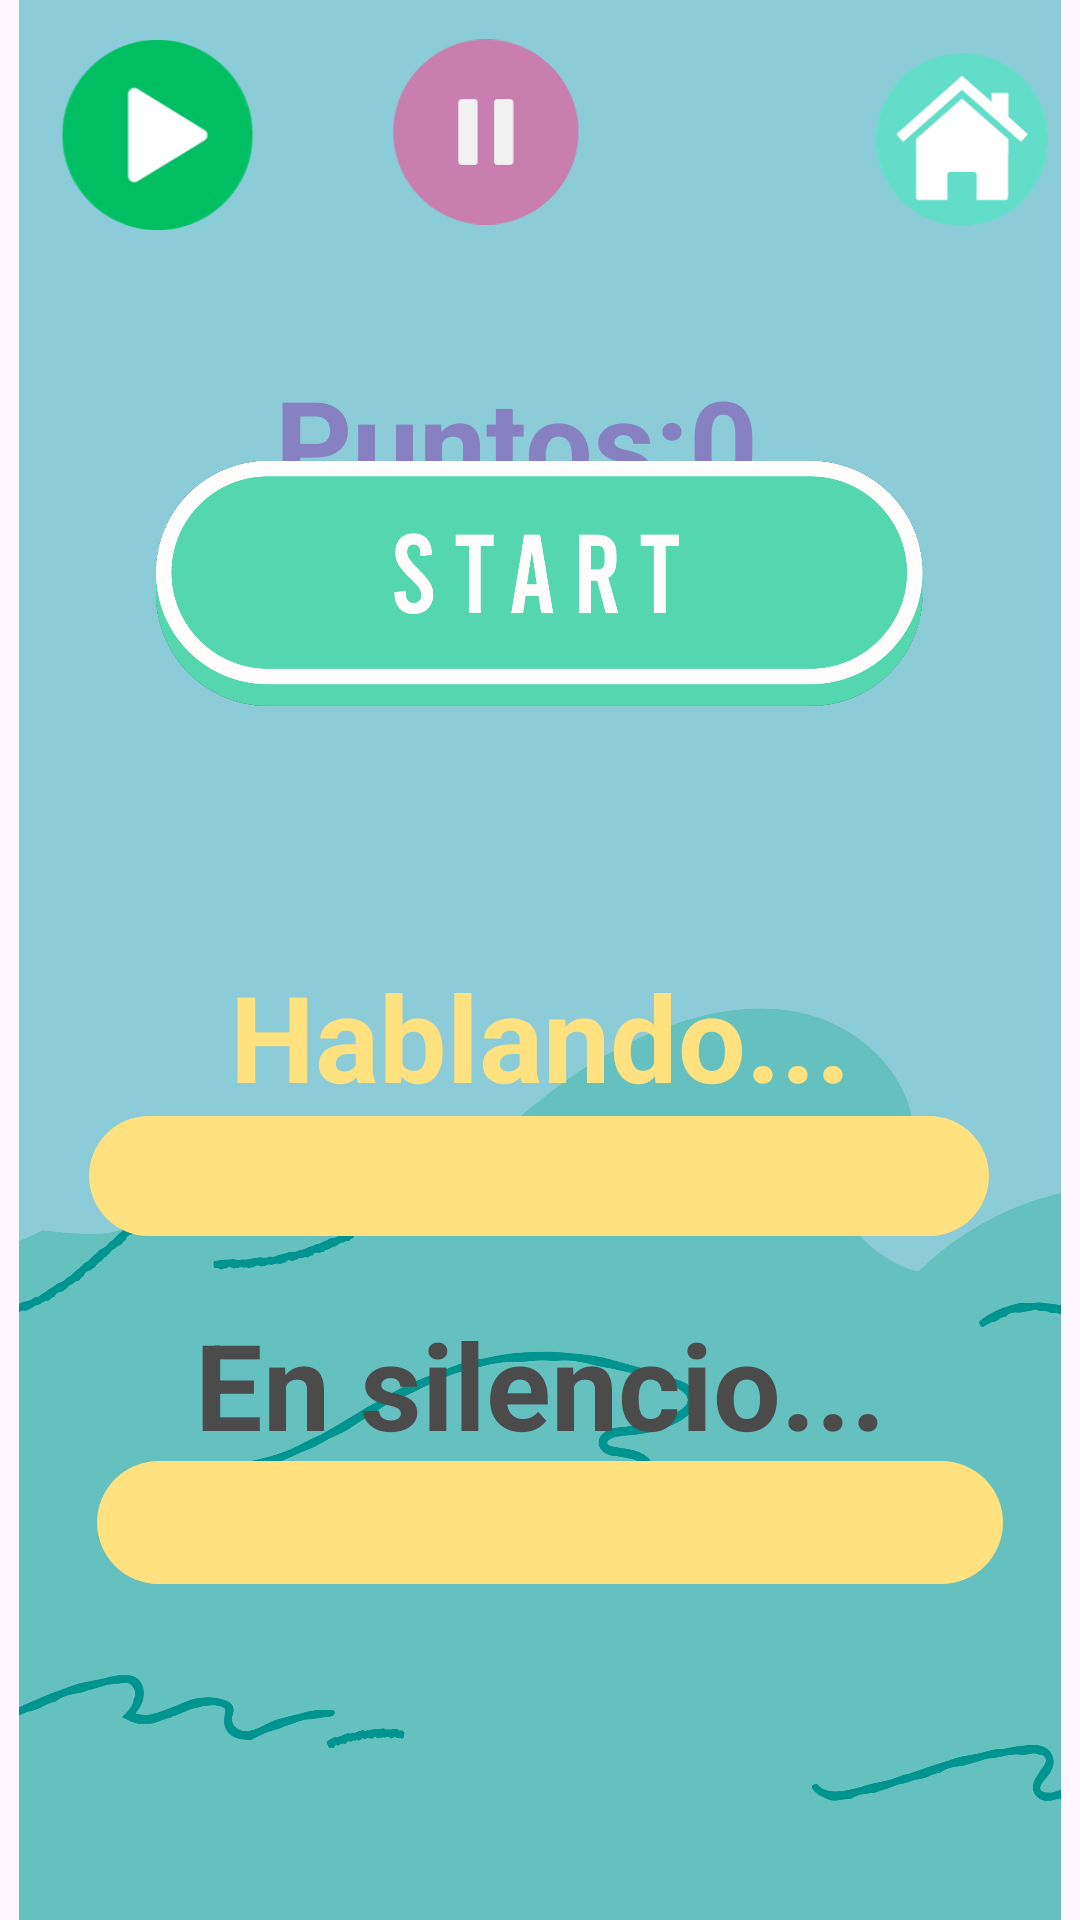

Where to tap for icons on this 1080×1920 app screen, as point (x, y):
home: point (962, 139)
parar: point (486, 132)
repro: point (157, 135)
